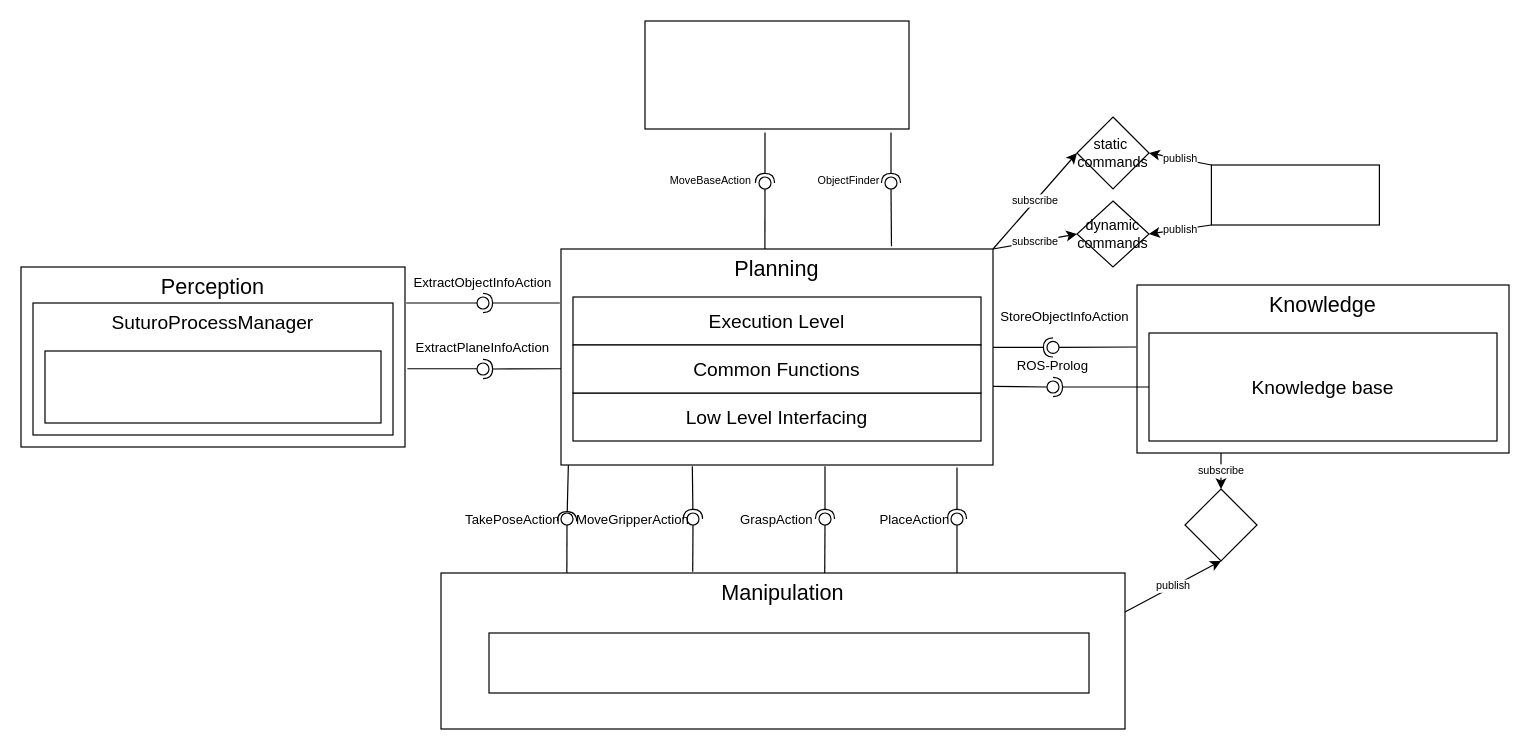
This 1530x750 diagram has some shape labels left out. The centre of each missing label's shape, as x and y in pixels:
Giskard: point 788,662
Natural Language Processing: point 1294,194
Navigation: point 776,74
ObjectInGripperMsg: point 1220,524
RoboSherlock: point 212,386
